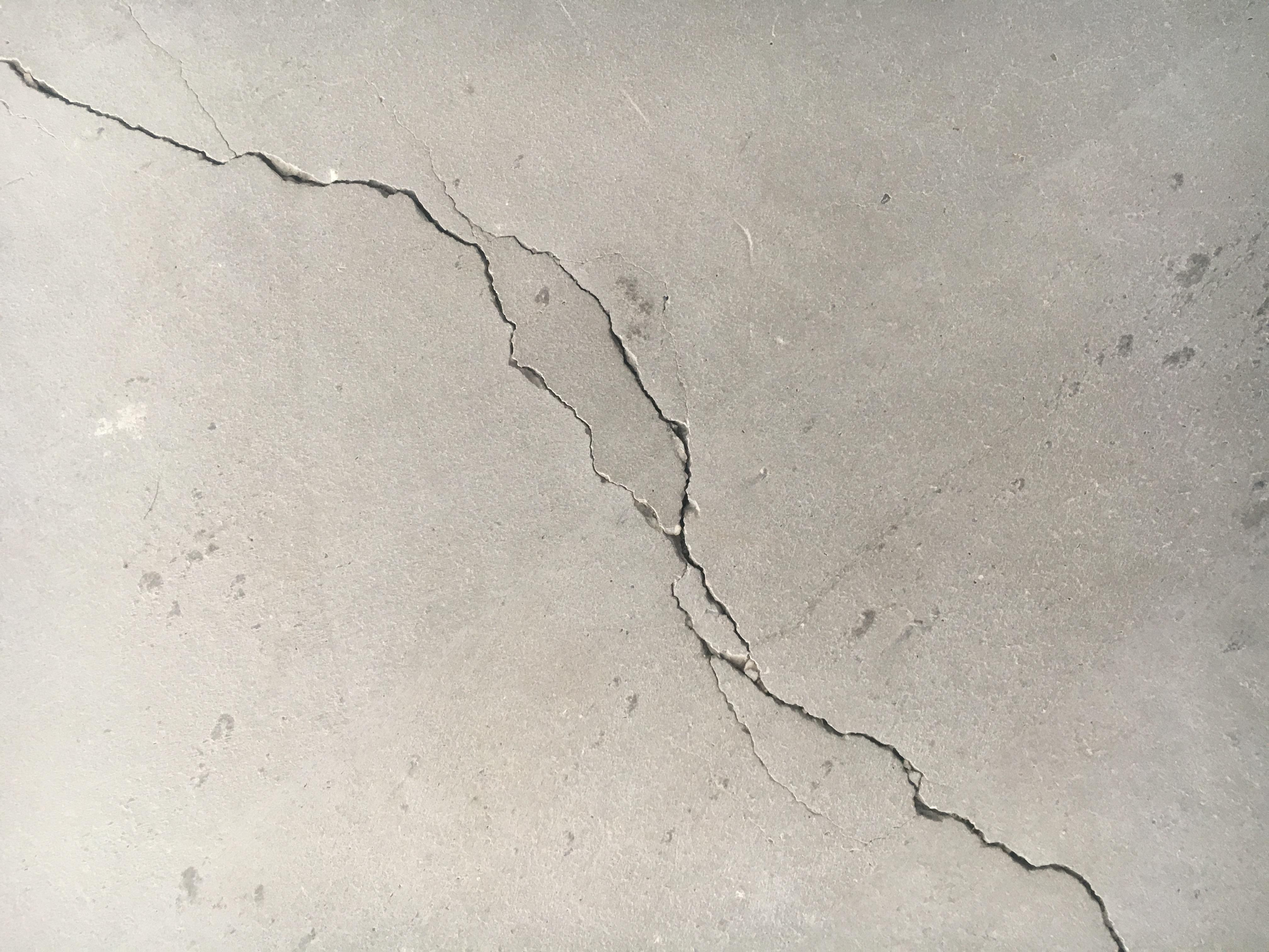Structural-Crack: (5, 37, 1131, 946)
